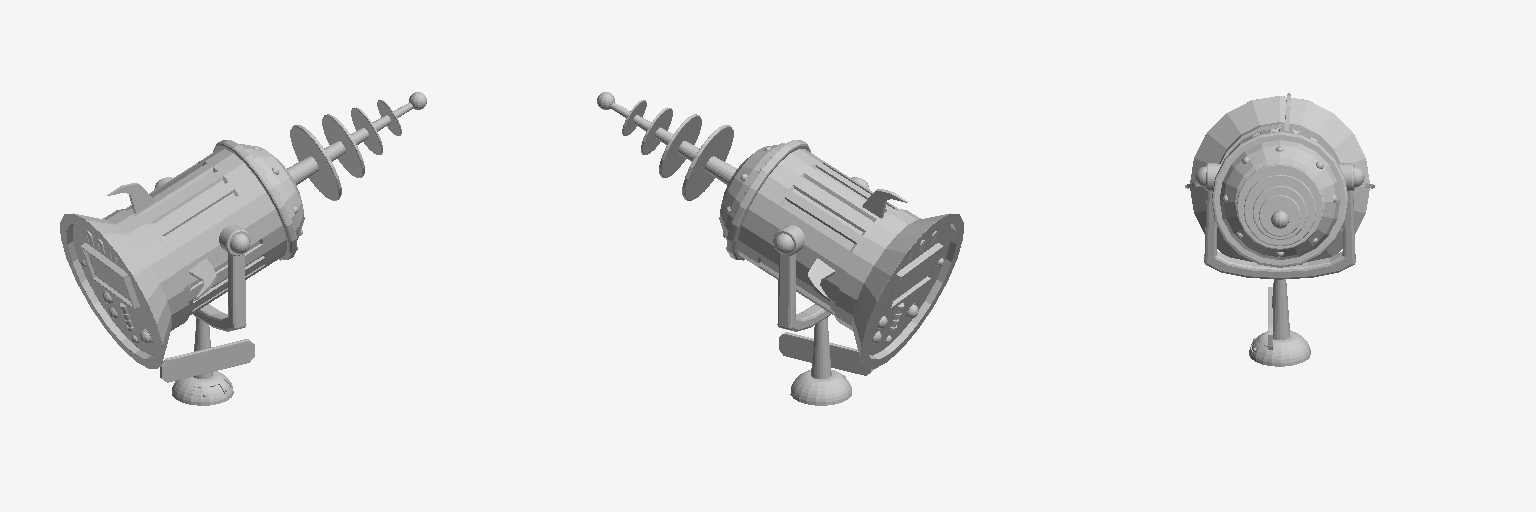
File: inator.obj
3 renders of one model, left to right at view 1: azimuth 30°, elevation 25°; view 2: azimuth 150°, elevation 25°; view 3: azimuth 270°, elevation 25°, orthographic.
Parts seen in each view (by area): view 1: Cuerpo, Discos, pCube1, Base, Agarre, Pantalla_Atras, Alas1, Agarres; view 2: Cuerpo, Discos, Base, Agarre, pCube1, Pantalla_Atras, Alas1, Agarres; view 3: Cuerpo, Discos, Agarre, Base, Agarres.
Part boxes in pixels (x1,y1,x2,y2): Cuerpo: (60, 103, 412, 368); Discos: (290, 92, 426, 200); pCube1: (160, 339, 254, 382); Base: (172, 317, 233, 405); Agarre: (193, 253, 246, 331); Pantalla_Atras: (80, 243, 139, 309); Alas1: (107, 183, 216, 300); Agarres: (154, 177, 250, 255); Cuerpo: (611, 103, 963, 368); Discos: (597, 92, 733, 200); Base: (790, 317, 851, 405); Agarre: (777, 253, 830, 331); pCube1: (779, 332, 873, 375); Pantalla_Atras: (884, 243, 943, 309); Alas1: (807, 189, 908, 300); Agarres: (773, 177, 869, 255); Cuerpo: (1190, 96, 1369, 267); Discos: (1237, 164, 1322, 249); Agarre: (1204, 191, 1355, 279); Base: (1249, 279, 1310, 366); Agarres: (1195, 163, 1364, 190).
Bounding box in the file's own units: 48.59 × 33.77 × 23.5.